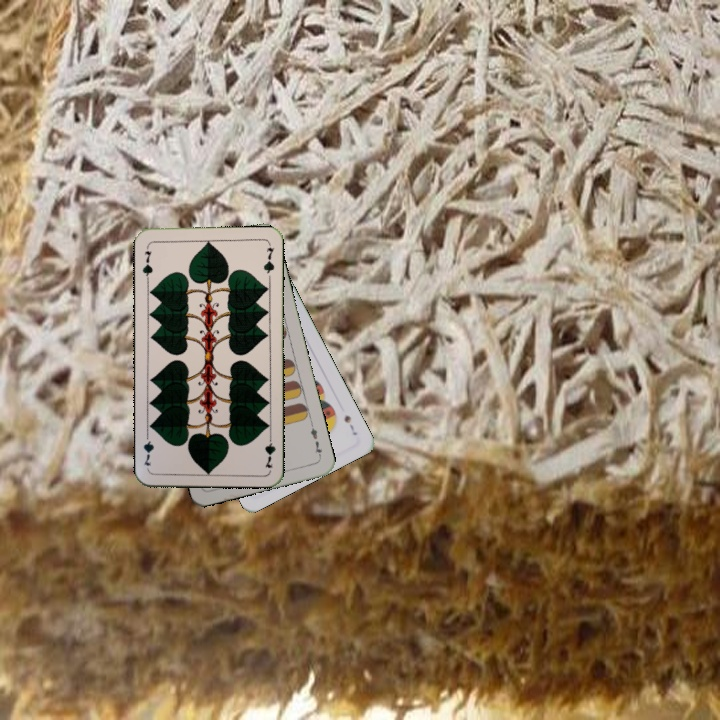E7: (306, 420, 325, 460)
G7: (261, 430, 278, 471), (138, 246, 155, 282)
S7: (340, 411, 360, 438)
